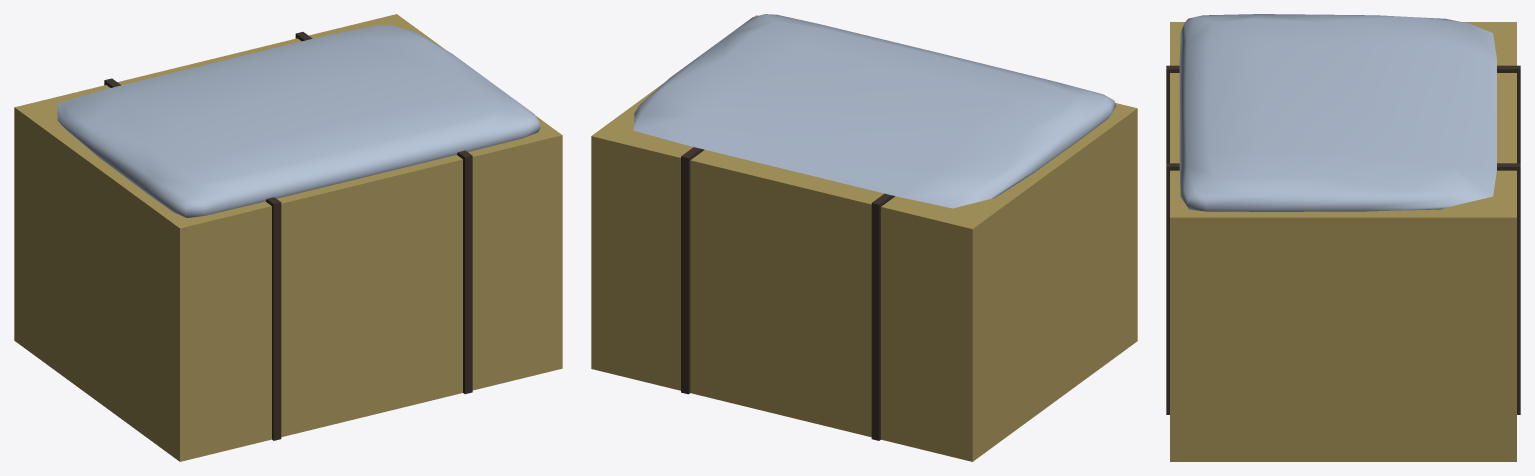
File: hay_bale.glb
3 renders of one model, left to right at view 1: azimuth 30°, elevation 25°; view 2: azimuth 150°, elevation 25°; view 3: azimuth 270°, elevation 25°, orthographic. The views are drawn at different scales.
Visible parts, largest first — view 1: Prop; view 2: Prop; view 3: Prop.
Part boxes in pixels (x1,y1,x2,y2): Prop: (14,14,562,461); Prop: (591,14,1137,461); Prop: (1166,14,1520,461).
Bounding box in the file's own units: 1.2 × 0.7688 × 0.92.
